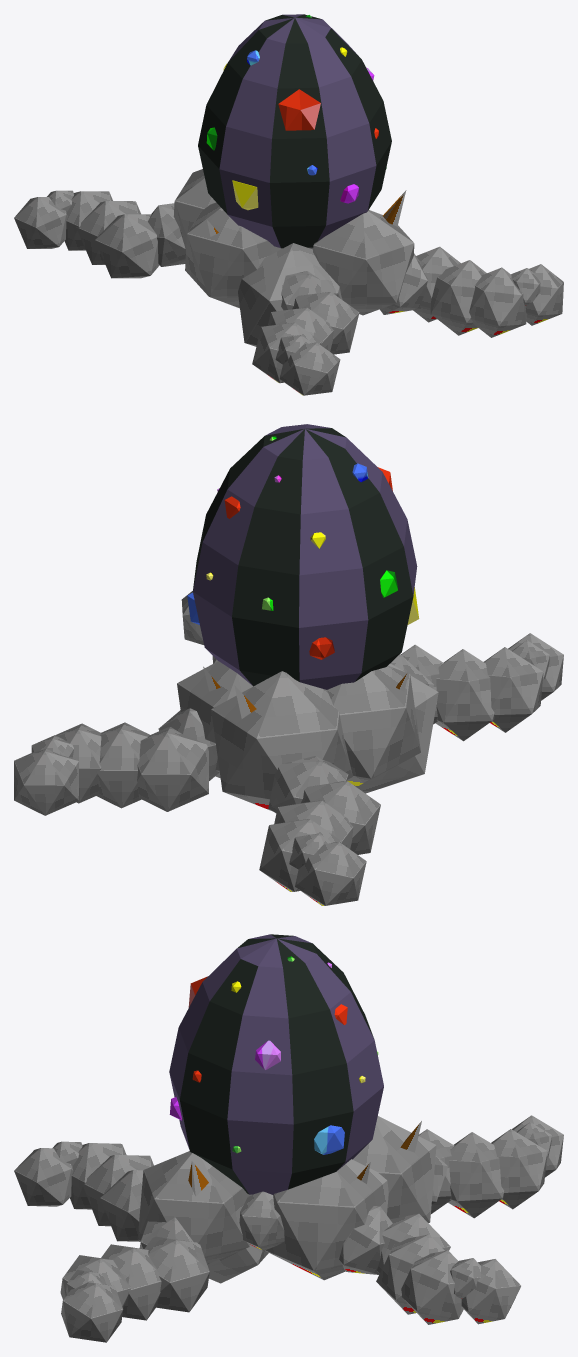
Rendered from eggB5.obj.
3 views of the same model, one above another, from view 1: azimuth 30°, elevation 25°; view 2: azimuth 150°, elevation 25°; view 3: azimuth 270°, elevation 25° (orthographic). The views are drawn at different scales.
Visible parts, largest first — view 1: rocks_crystal_1_Icosphere.062_crystal_1_Icosphere.006, egg_Cylinder.002_Cylinder.006, crystals_crystal_1_Icosphere.062_crystal_1_Icosphere.006; view 2: rocks_crystal_1_Icosphere.062_crystal_1_Icosphere.006, egg_Cylinder.002_Cylinder.006, crystals_crystal_1_Icosphere.062_crystal_1_Icosphere.006, spikes_crystal_1_Icosphere.062_crystal_1_Icosphere.006; view 3: rocks_crystal_1_Icosphere.062_crystal_1_Icosphere.006, egg_Cylinder.002_Cylinder.006, crystals_crystal_1_Icosphere.062_crystal_1_Icosphere.006, spikes_crystal_1_Icosphere.062_crystal_1_Icosphere.006.
Boxes of the visible parts, x1,y1,x2,y2 form: rocks_crystal_1_Icosphere.062_crystal_1_Icosphere.006: (14,169,563,395); egg_Cylinder.002_Cylinder.006: (198,14,391,248); crystals_crystal_1_Icosphere.062_crystal_1_Icosphere.006: (206,15,386,210); rocks_crystal_1_Icosphere.062_crystal_1_Icosphere.006: (14,591,563,905); egg_Cylinder.002_Cylinder.006: (193,424,417,689); crystals_crystal_1_Icosphere.062_crystal_1_Icosphere.006: (187,436,419,659); spikes_crystal_1_Icosphere.062_crystal_1_Icosphere.006: (203,666,408,718); rocks_crystal_1_Icosphere.062_crystal_1_Icosphere.006: (14,1115,563,1342); egg_Cylinder.002_Cylinder.006: (169,934,383,1194); crystals_crystal_1_Icosphere.062_crystal_1_Icosphere.006: (169,956,378,1154); spikes_crystal_1_Icosphere.062_crystal_1_Icosphere.006: (188,1121,421,1196).
Bounding box in the file's own units: 128 × 112 × 157.
Materials: 4 (4 with a texture image).
